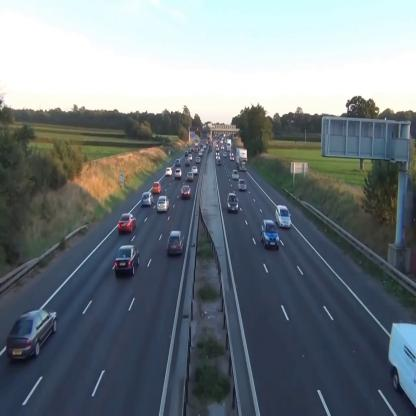car: (6, 308, 58, 360), (115, 244, 139, 279), (260, 219, 280, 250), (167, 230, 185, 257), (118, 211, 137, 234), (275, 205, 291, 229), (157, 194, 169, 214), (227, 193, 238, 214), (141, 191, 154, 207), (180, 185, 191, 199), (153, 182, 162, 196), (238, 178, 247, 192), (174, 167, 182, 180), (164, 166, 172, 178), (186, 171, 194, 183), (191, 166, 199, 175), (232, 170, 239, 180), (176, 158, 180, 166)
lorry: (236, 148, 248, 172)
